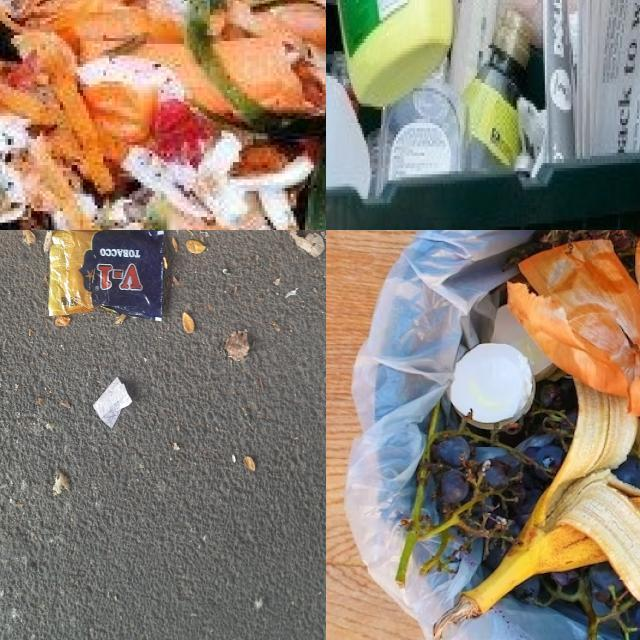Background: (0, 230, 326, 640)
Garbage: (396, 230, 640, 640), (326, 0, 640, 195)
Glass_bottle: (464, 12, 530, 169)
Plastic: (450, 344, 535, 429)
Plastic_Container: (341, 0, 452, 106), (378, 79, 460, 191), (326, 74, 368, 198)
Plastic_wraper: (49, 230, 163, 320)
